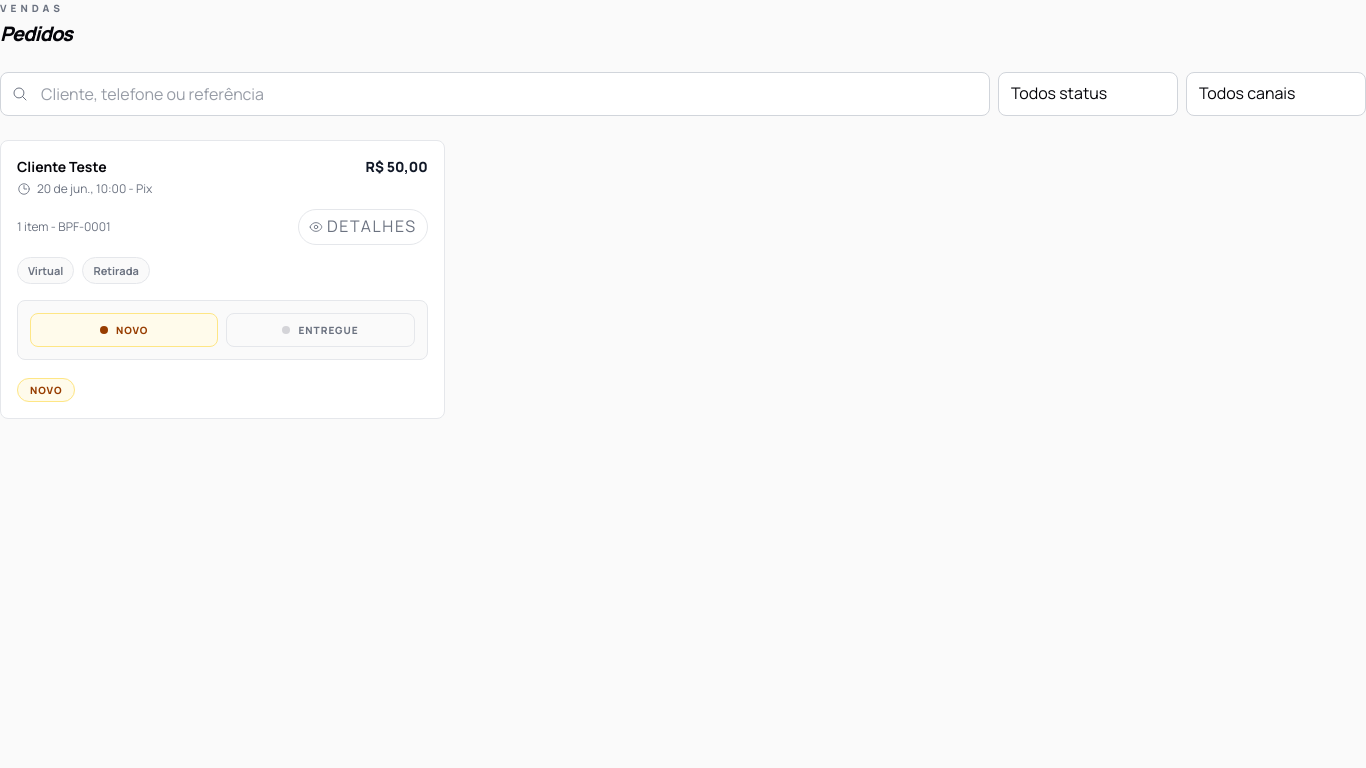
Test: DashboardOrdersView › does not cancel the order when the confirmation is dismissed
Step 1. Click the button with test id "sale-detail-button" → click(363, 227), box x1=298 y1=209 x2=428 y2=245
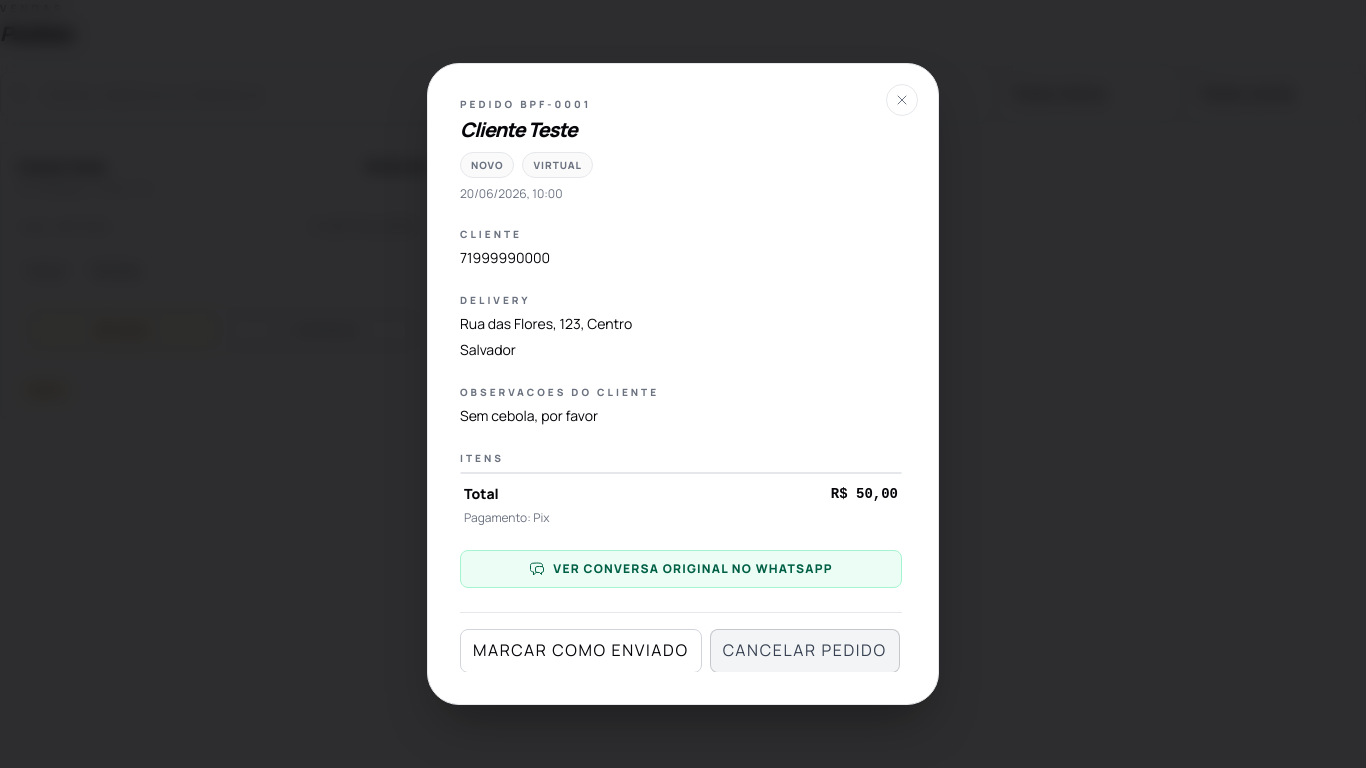
Step 2. Click the button with test id "cancel-order-button" → click(805, 651), box x1=710 y1=629 x2=900 y2=673
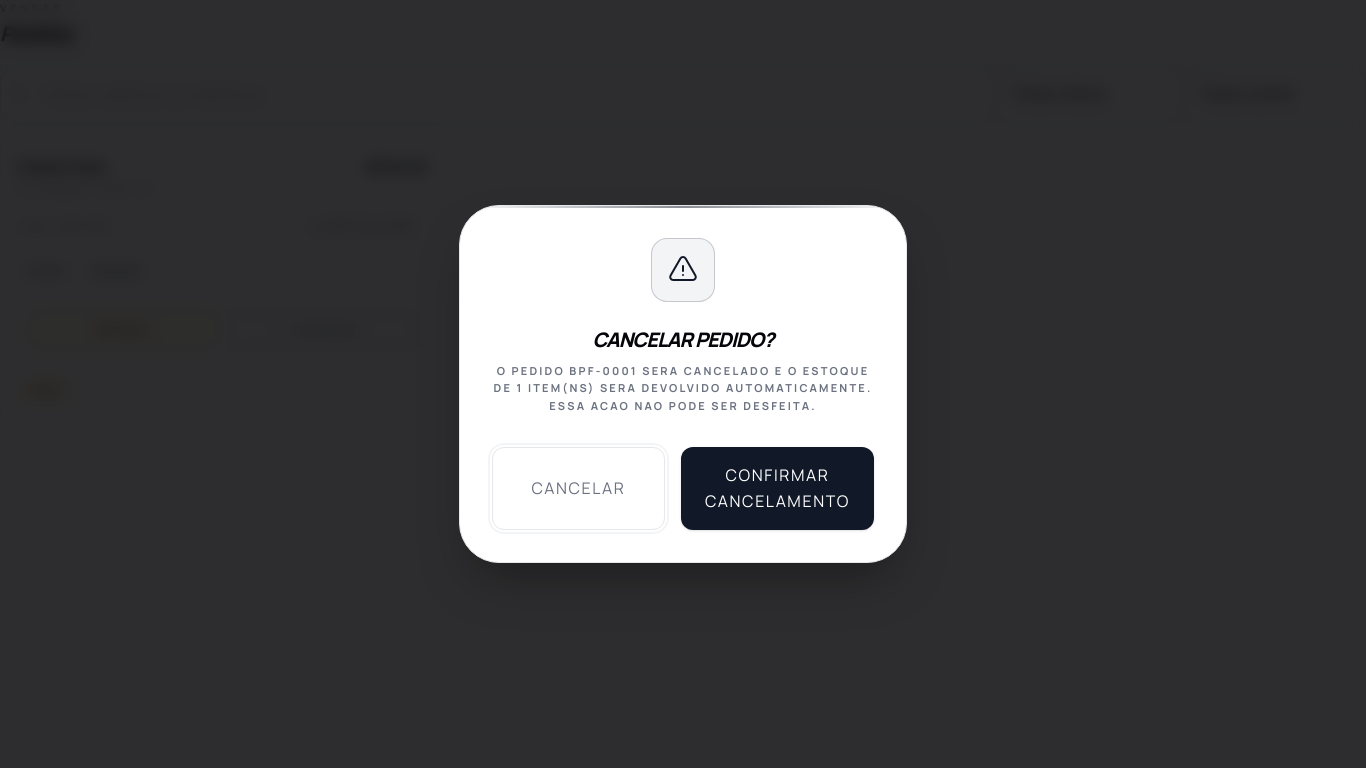
Expected: the button "Cancelar" is shown
Step 3. Click the button "Cancelar" → click(579, 489), box x1=492 y1=447 x2=665 y2=530
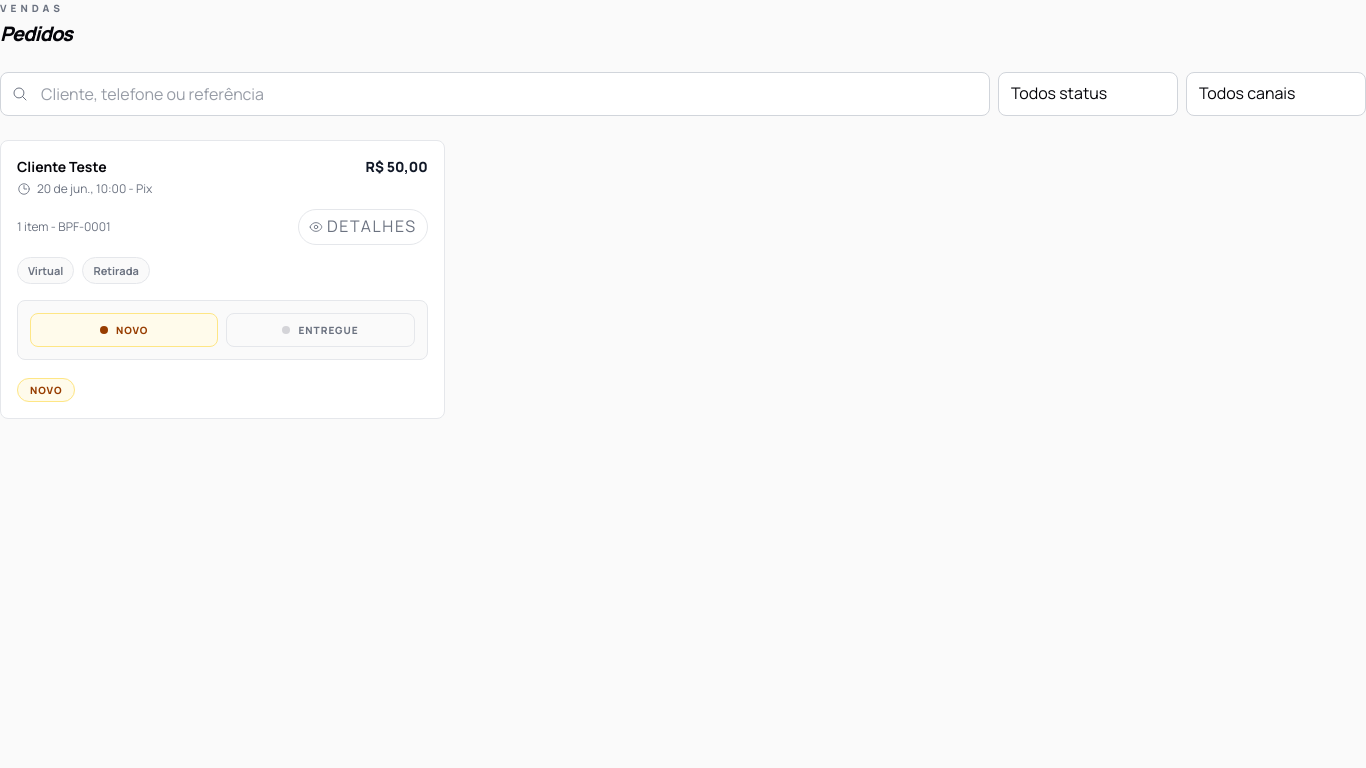
Expected: the text "Cancelar pedido?" is gone
